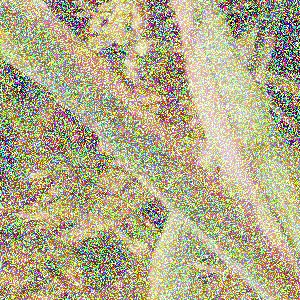Leaf_Blast: (0, 1, 100, 97)
